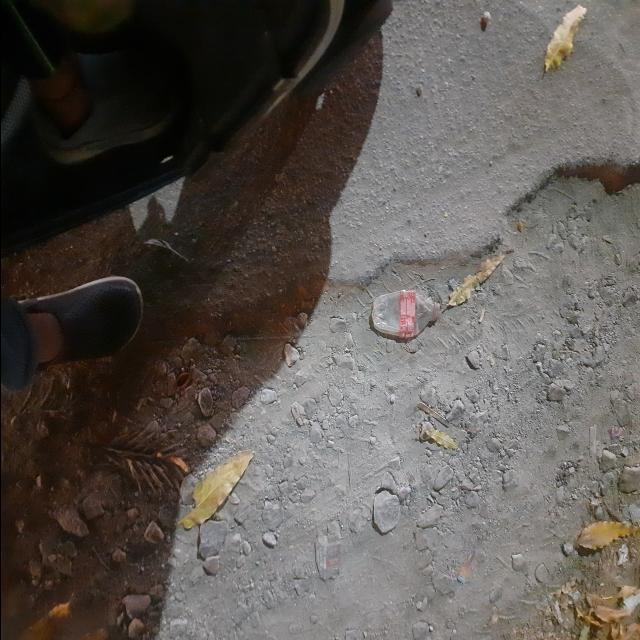Background: (345, 250, 471, 406), (400, 310, 405, 315)
Plastic_bottle: (371, 290, 439, 338)
